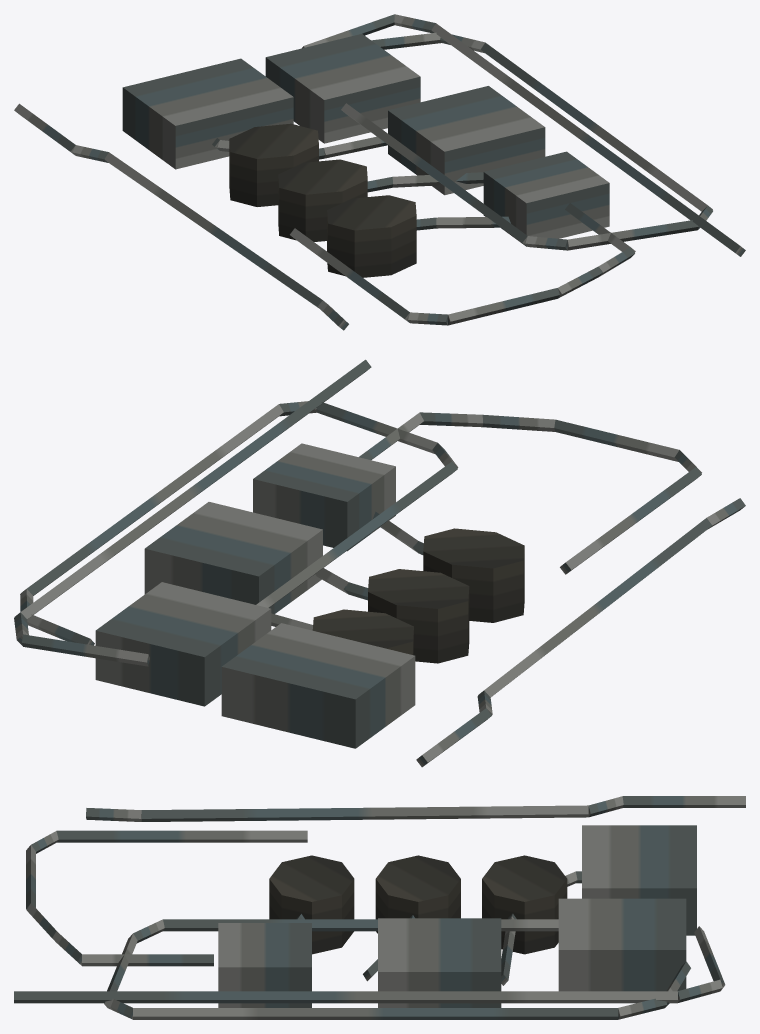
File: pz_native_electrical_176.obj
3 views of the same model, one above another, from view 1: azimuth 30°, elevation 25°; view 2: azimuth 150°, elevation 25°; view 3: azimuth 270°, elevation 25° (orthographic). The views are drawn at different scales.
Parts seen in each view (by area): view 1: panel_case, conduit, meter_octagonal_housing, meter_back; view 2: panel_case, conduit, meter_back, meter_octagonal_housing; view 3: panel_case, conduit, meter_back, meter_octagonal_housing.
Part boxes in pixels (x1,y1,x2,y2): panel_case: (122, 34, 609, 246); conduit: (14, 14, 740, 326); meter_octagonal_housing: (229, 141, 416, 277); meter_back: (229, 123, 416, 230); panel_case: (95, 443, 415, 748); conduit: (14, 359, 745, 766); meter_back: (312, 528, 524, 648); meter_octagonal_housing: (368, 549, 524, 663); panel_case: (218, 825, 696, 1007); conduit: (14, 796, 745, 1019); meter_back: (269, 855, 566, 901); meter_octagonal_housing: (269, 879, 567, 954).
Size of the model in its own units: 1.04 by 0.1475 by 1.45.
1 material, 1 textured.
